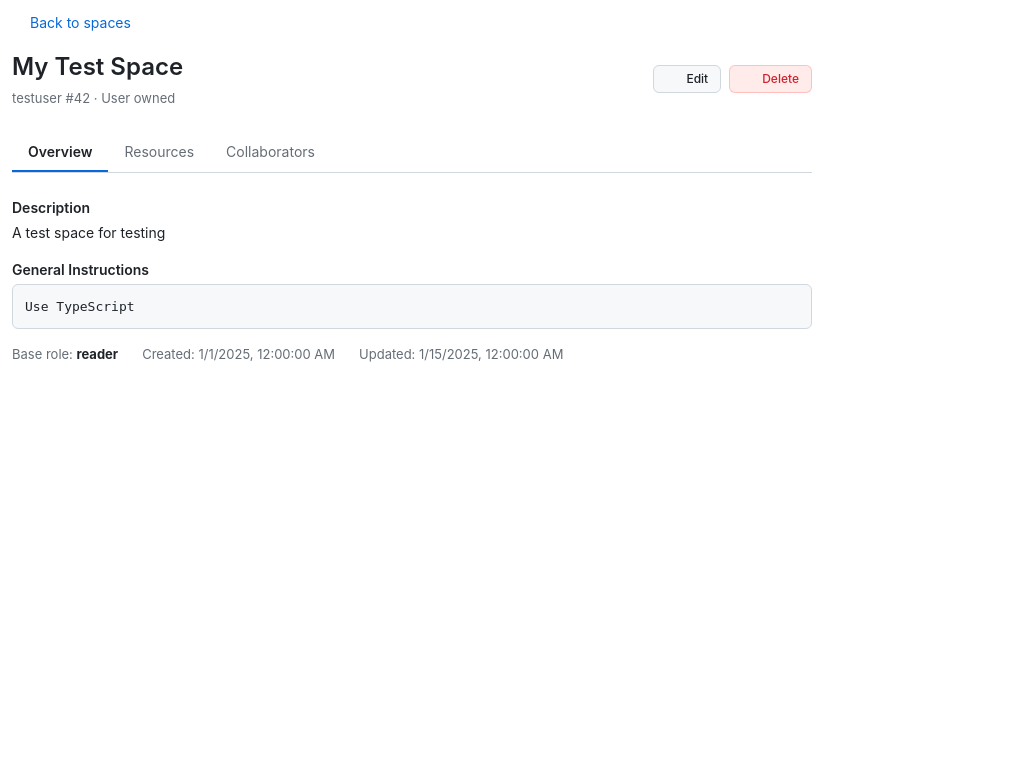
Test case: SpaceDetailPage › toggles edit form on Edit click
Click the button "Edit": (687, 79) x1=653 y1=65 x2=721 y2=93
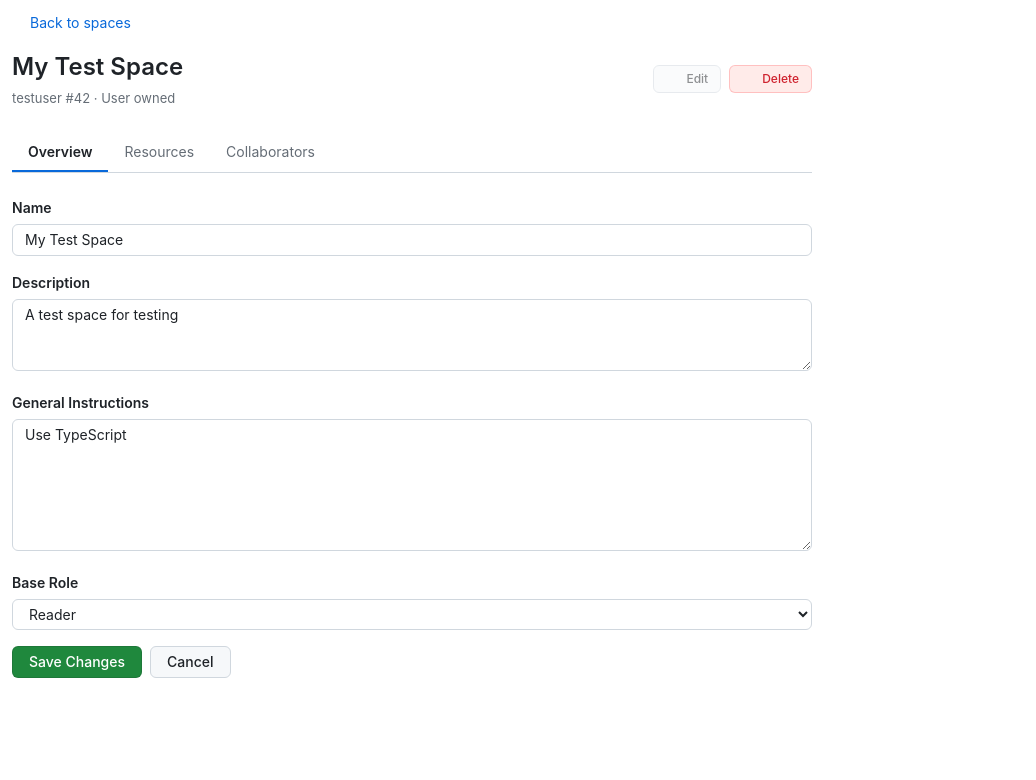
Check: the button "Save Changes" is shown, box x1=12 y1=646 x2=142 y2=678
Check: the button "Cancel" is shown, box x1=150 y1=646 x2=230 y2=678
